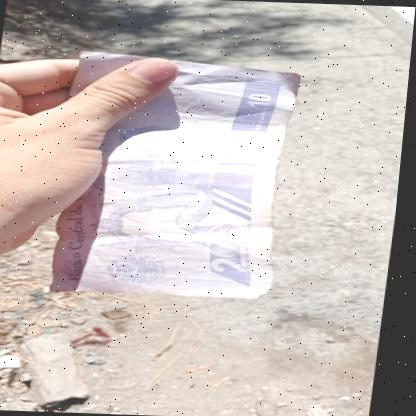ten-back-vef: (52, 52, 303, 298)
